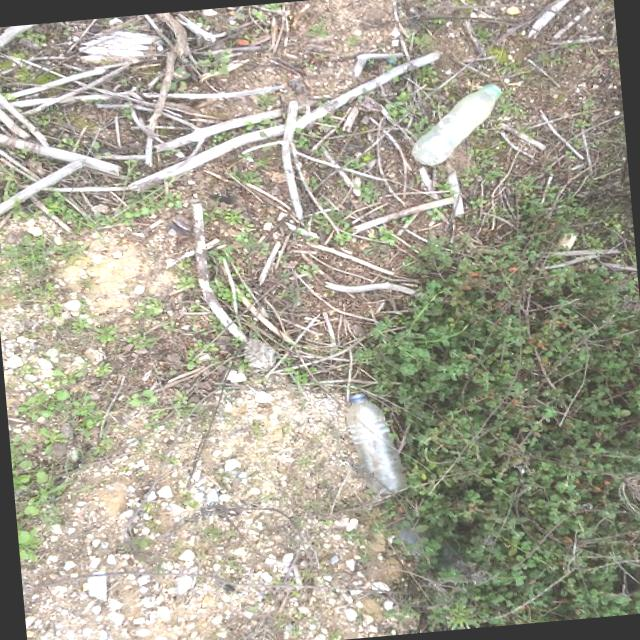Recycle: (401, 80, 511, 167), (336, 388, 412, 500)
